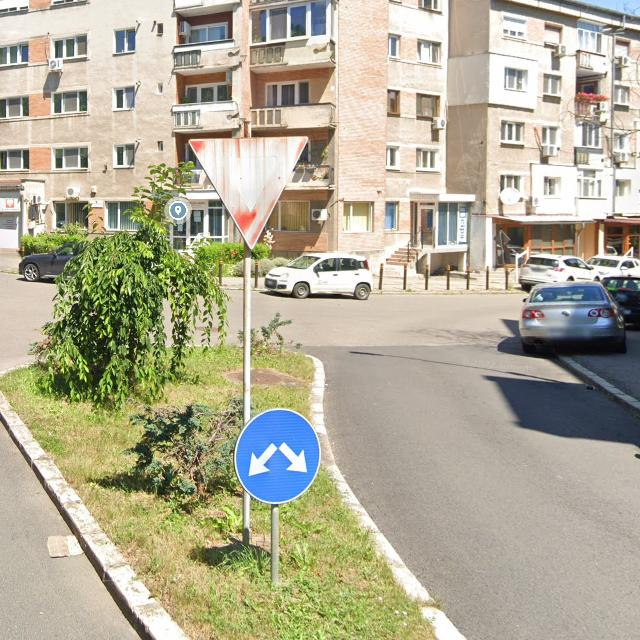mand_pass_left_right: (233, 406, 321, 504)
prio_give_way: (187, 135, 310, 249)
